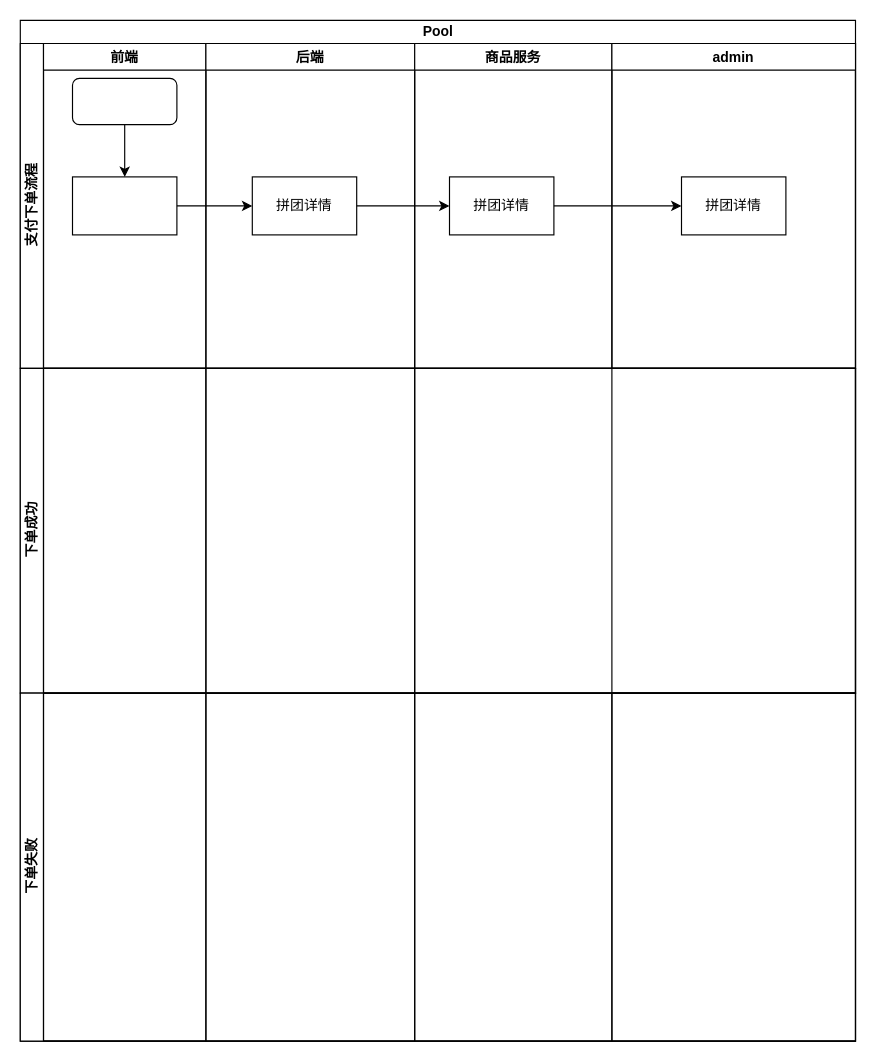
This 876x1061 diagram has some shape labels left out. Each missing label, with the centre of its shape:
"发起拼团" goes at [124,205].
"开始" goes at [124,101].
